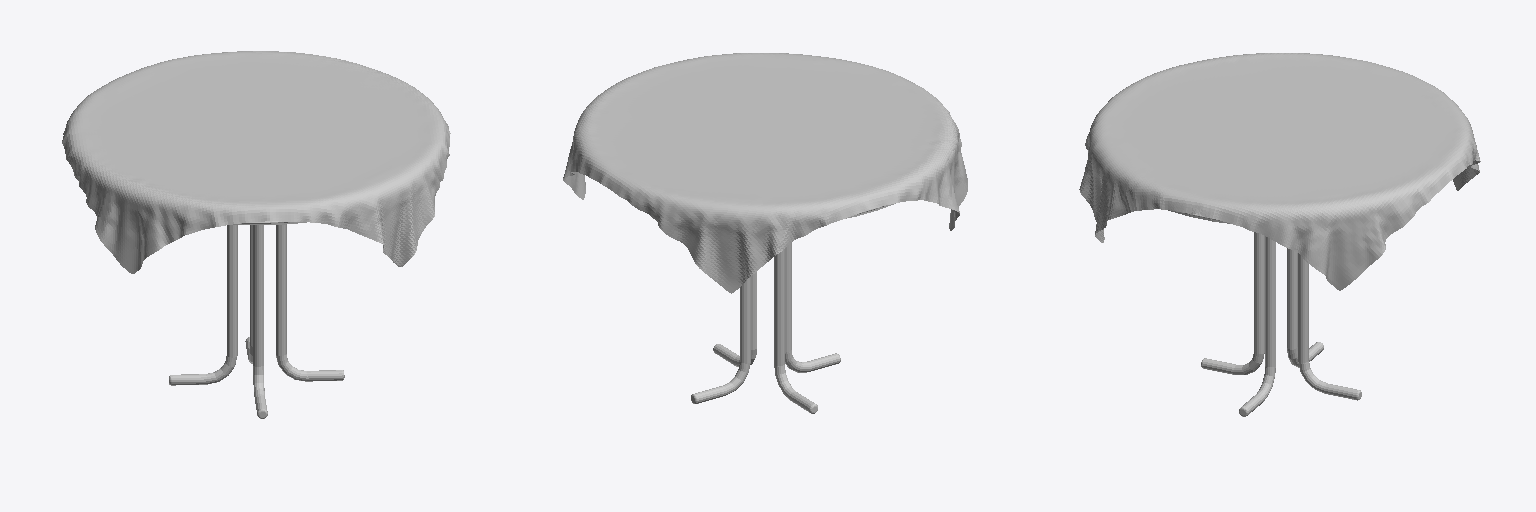
Rendered from TableRound.obj.
3 renders of one model, left to right at view 1: azimuth 30°, elevation 25°; view 2: azimuth 150°, elevation 25°; view 3: azimuth 270°, elevation 25°, orthographic.
Parts seen in each view (by area): view 1: round_table; view 2: round_table; view 3: round_table.
Boxes of the visible parts, <box> form: round_table: <box>62,51,450,418</box>; round_table: <box>563,53,967,413</box>; round_table: <box>1079,53,1480,416</box>.
Bounding box in the file's own units: 1.11 × 0.7778 × 1.11.